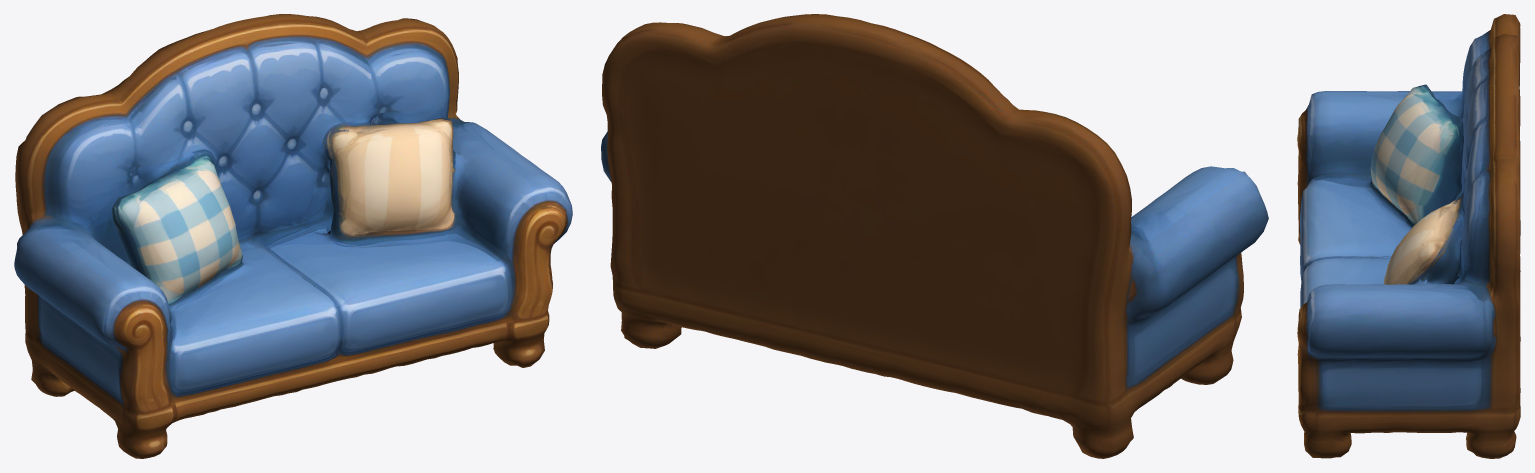
Rendered from Blue_Sofa.glb.
3 views of the same model, side by side, from view 1: azimuth 30°, elevation 25°; view 2: azimuth 150°, elevation 25°; view 3: azimuth 270°, elevation 25° (orthographic). The views are drawn at different scales.
Parts seen in each view (by area): view 1: RETOPO; view 2: RETOPO; view 3: RETOPO.
Part boxes in pixels (x1,y1,x2,y2): RETOPO: (14,14,572,458); RETOPO: (601,14,1268,458); RETOPO: (1297,14,1520,458).
Bounding box in the file's own units: 1.07 × 0.6868 × 0.4494.
1 material, 1 textured.
